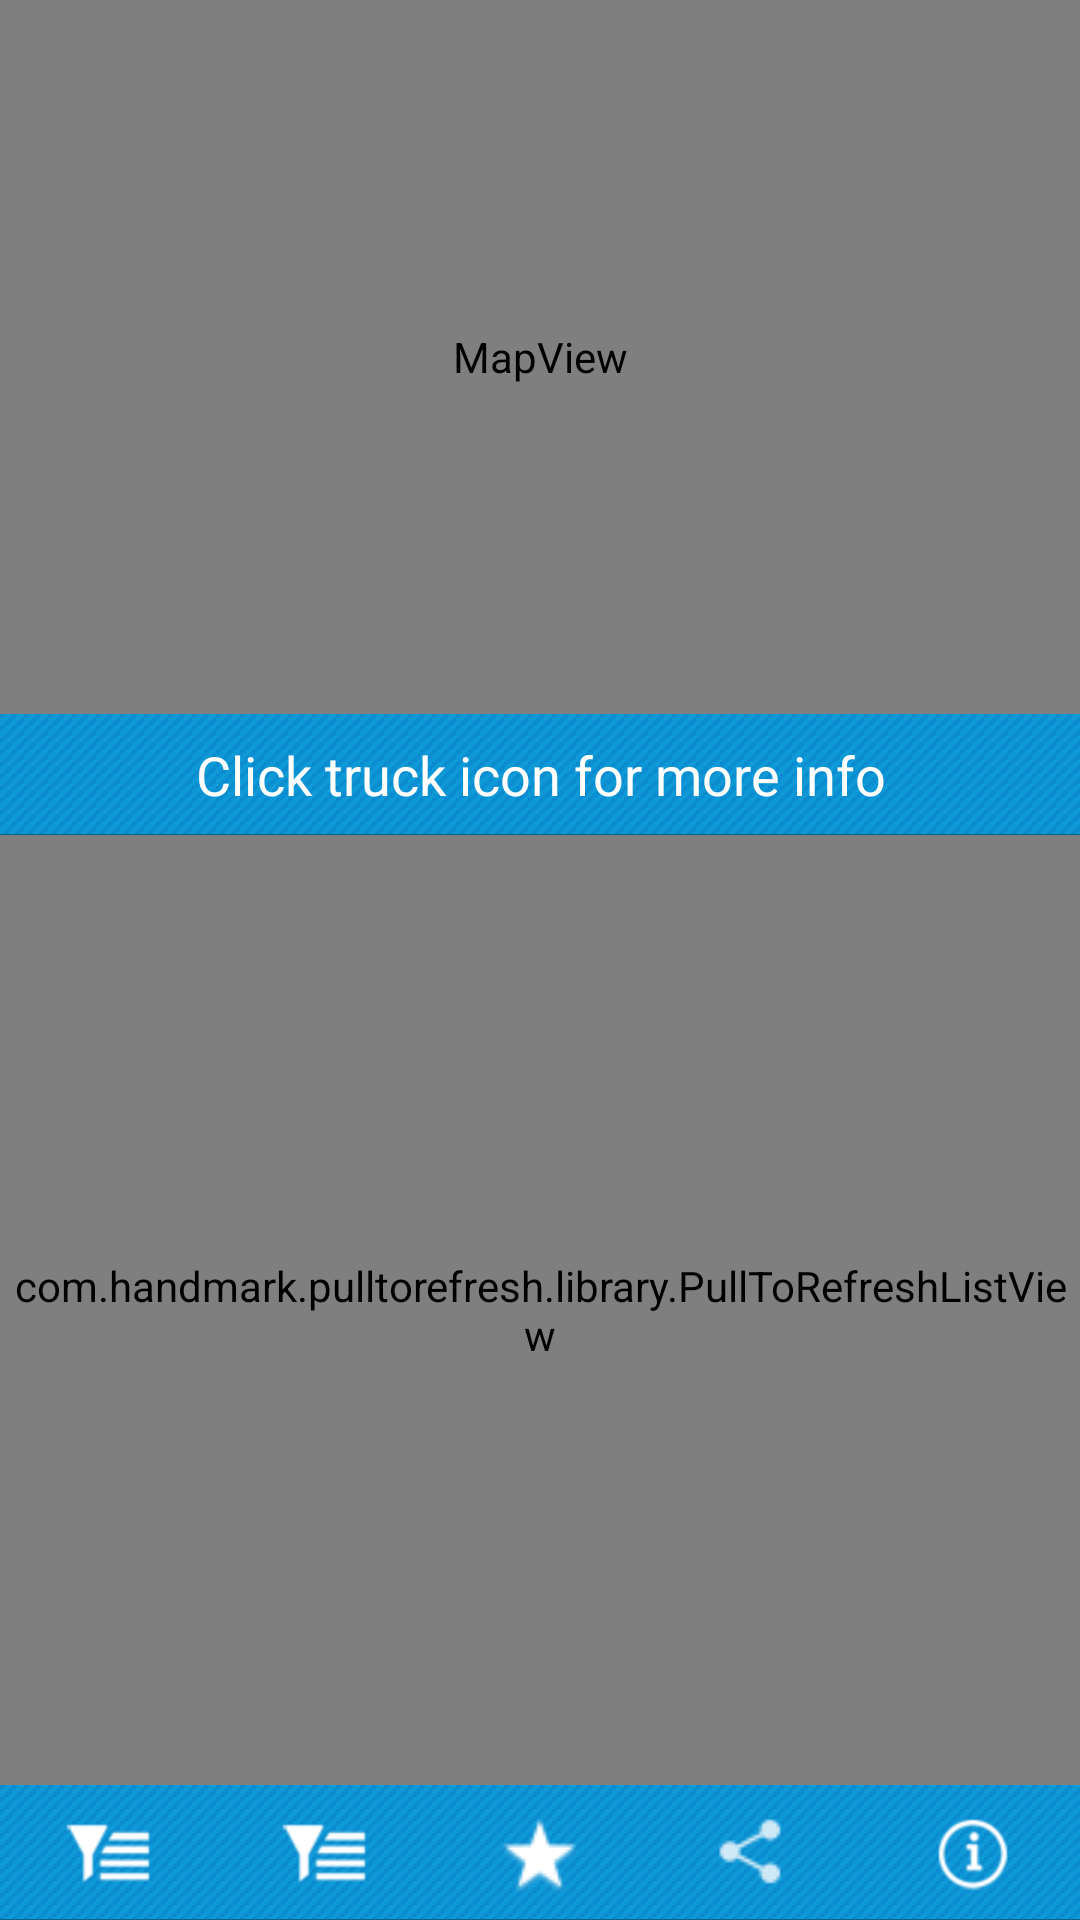

Named icons in this screenshot (1080px×1920px) and their centers, (x,y):
favorites: (540,1852)
info: (972,1852)
share: (756,1852)
toolber filter: (108,1852), (324,1852)
